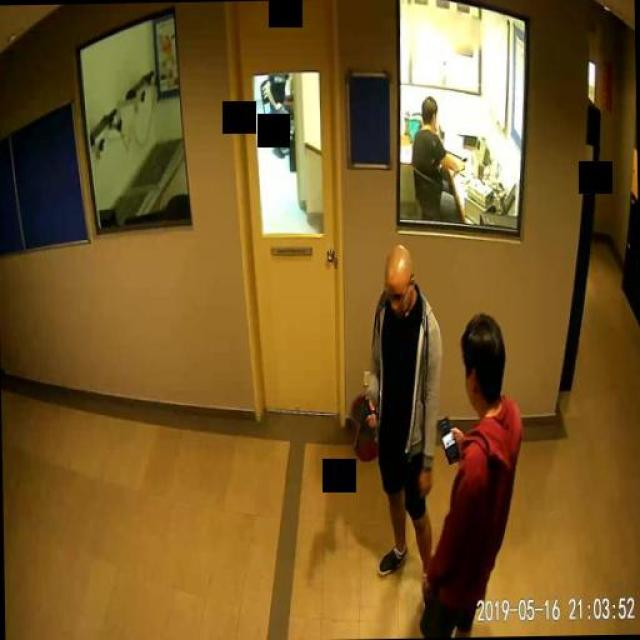gun: (350, 398, 378, 448)
